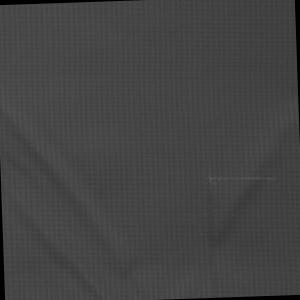Wrinkle: (1, 100, 162, 300), (190, 83, 300, 299)
